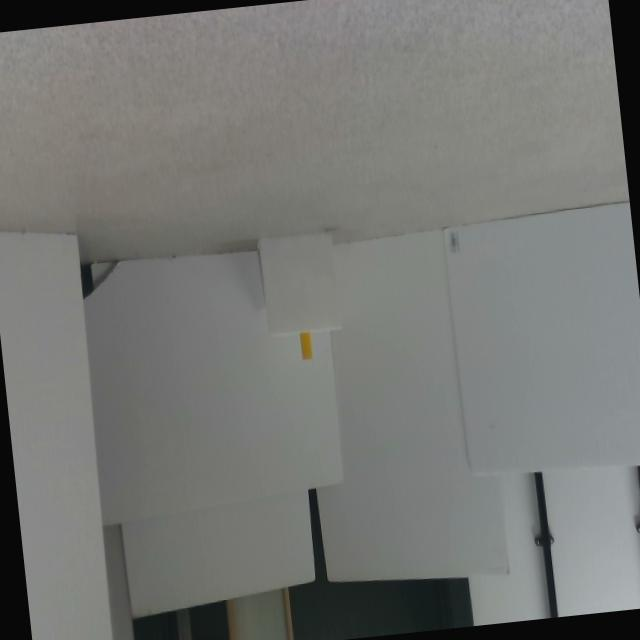yellow_cylinder: (299, 332, 312, 359)
